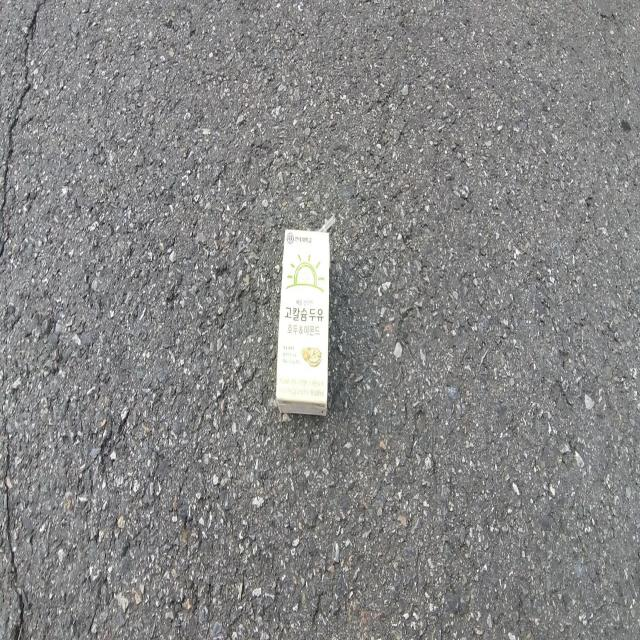paperpack: (276, 229, 330, 415)
